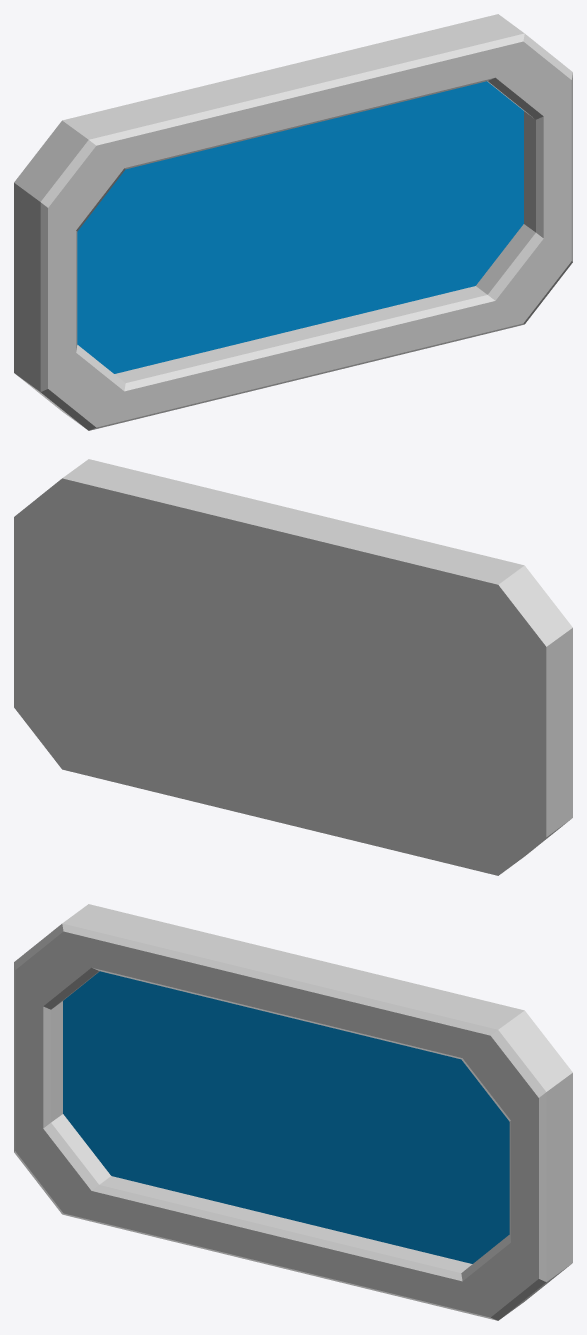
Rendered from Screen.fbx.
3 views of the same model, one above another, from view 1: azimuth 30°, elevation 25°; view 2: azimuth 150°, elevation 25°; view 3: azimuth 330°, elevation 25° (orthographic).
Parts seen in each view (by area): view 1: Screen; view 2: Screen; view 3: Screen.
Boxes of the visible parts, x1,y1,x2,y2 form: Screen: (14,14,572,430); Screen: (14,459,572,875); Screen: (14,904,572,1320).
Size of the model in its own units: 383 by 200 by 36.97.
